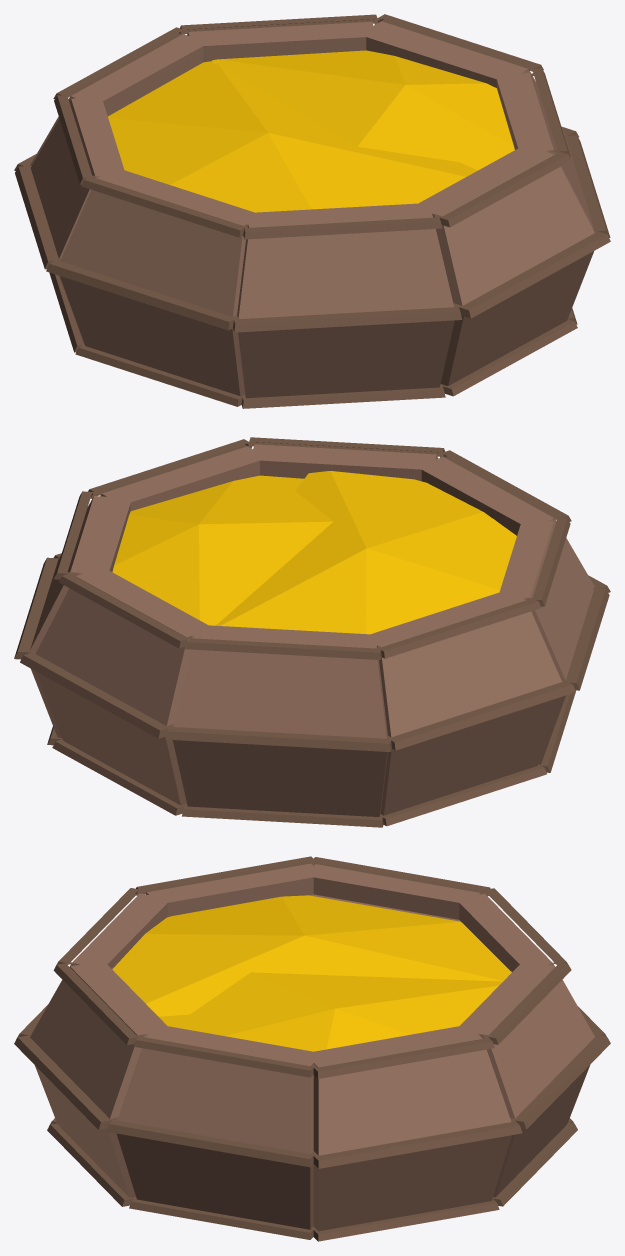
The model's file is barrel-spice-04.obj.
3 views of the same model, one above another, from view 1: azimuth 30°, elevation 25°; view 2: azimuth 150°, elevation 25°; view 3: azimuth 270°, elevation 25° (orthographic). The views are drawn at different scales.
Parts seen in each view (by area): view 1: barrel-spice-04; view 2: barrel-spice-04; view 3: barrel-spice-04.
Boxes of the visible parts, left/top/right/bottom form: barrel-spice-04: left=14, top=14, right=610, bottom=408; barrel-spice-04: left=14, top=437, right=610, bottom=827; barrel-spice-04: left=14, top=856, right=610, bottom=1241.
Size of the model in its own units: 0.4555 by 0.1441 by 0.4567.
